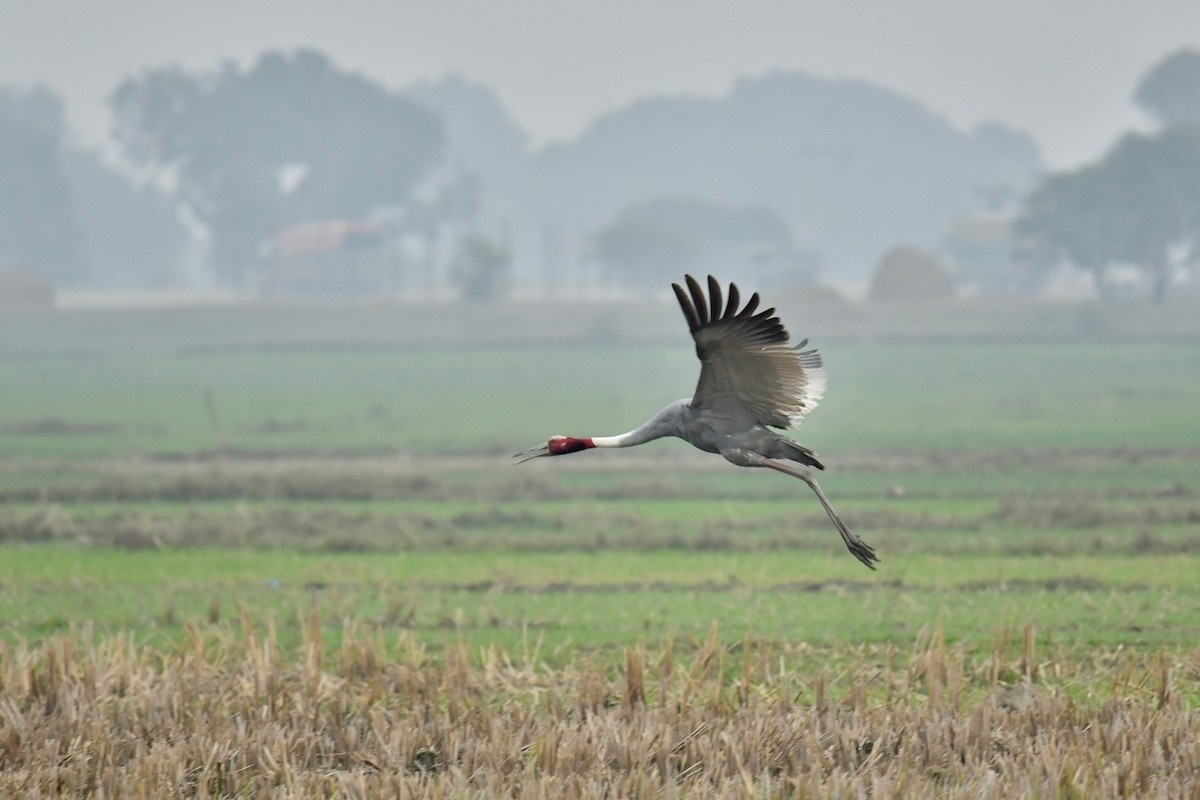crane: (514, 267, 895, 575)
